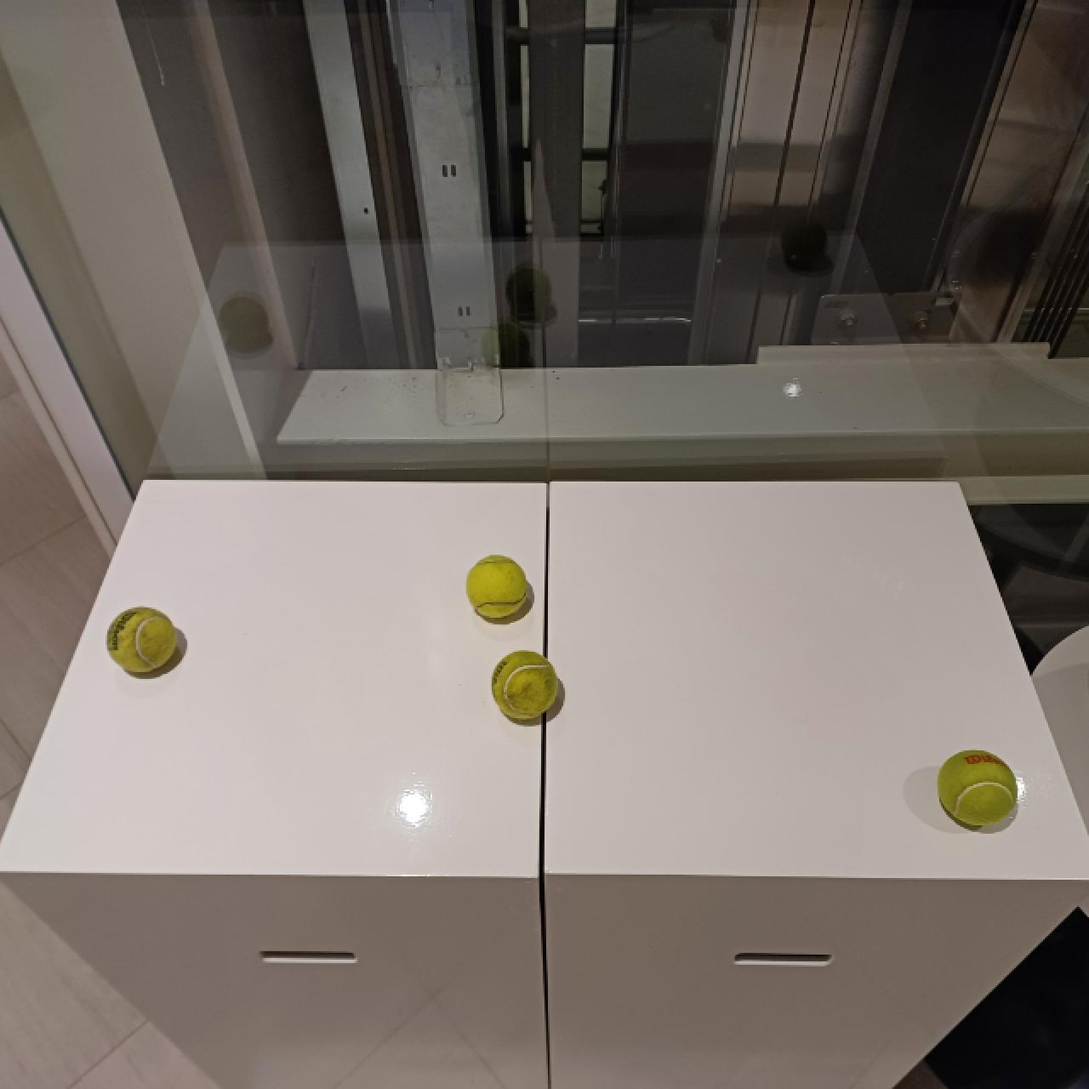tennis-ball: (937, 747, 1019, 828), (490, 648, 559, 723), (105, 606, 178, 676), (467, 554, 531, 624)
